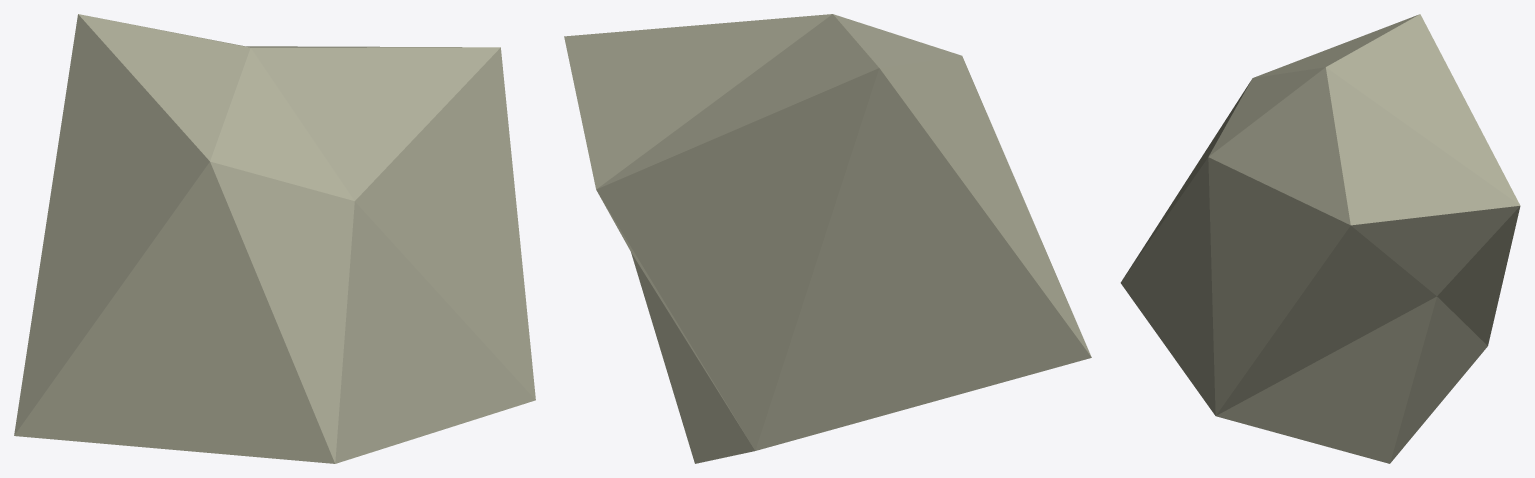
Rendered from asteroid_2.glb.
3 renders of one model, left to right at view 1: azimuth 30°, elevation 25°; view 2: azimuth 150°, elevation 25°; view 3: azimuth 270°, elevation 25°, orthographic. The views are drawn at different scales.
Parts seen in each view (by area): view 1: Asteroid_2; view 2: Asteroid_2; view 3: Asteroid_2.
Boxes of the visible parts, x1,y1,x2,y2 form: Asteroid_2: [14, 14, 535, 463]; Asteroid_2: [564, 14, 1091, 463]; Asteroid_2: [1120, 14, 1520, 463].
Bounding box in the file's own units: 0.6089 × 0.5399 × 0.5289.
